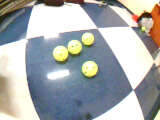Ball: (50, 43, 68, 63), (81, 60, 98, 77), (67, 40, 81, 55), (81, 31, 94, 47)
